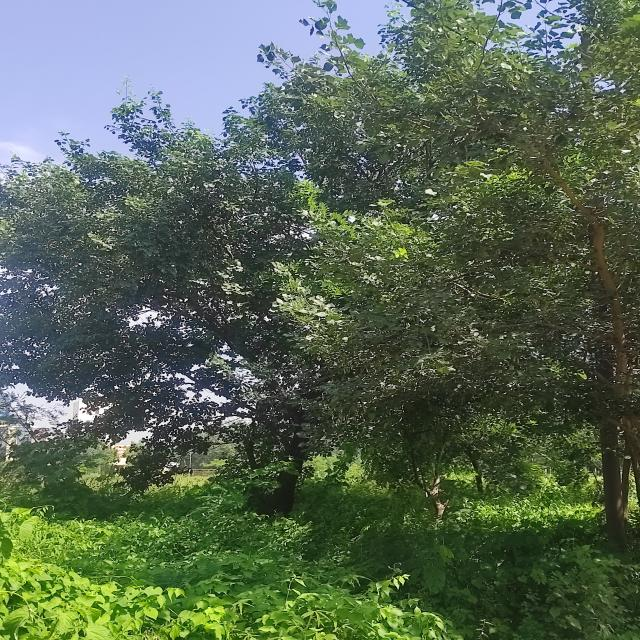Devakanchan tree: (79, 20, 597, 473)
